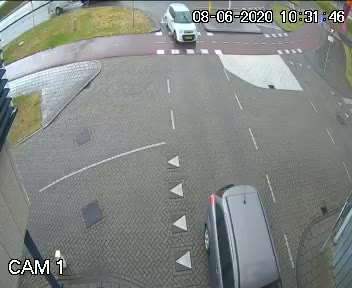car: (196, 170, 292, 288), (150, 2, 203, 51)
